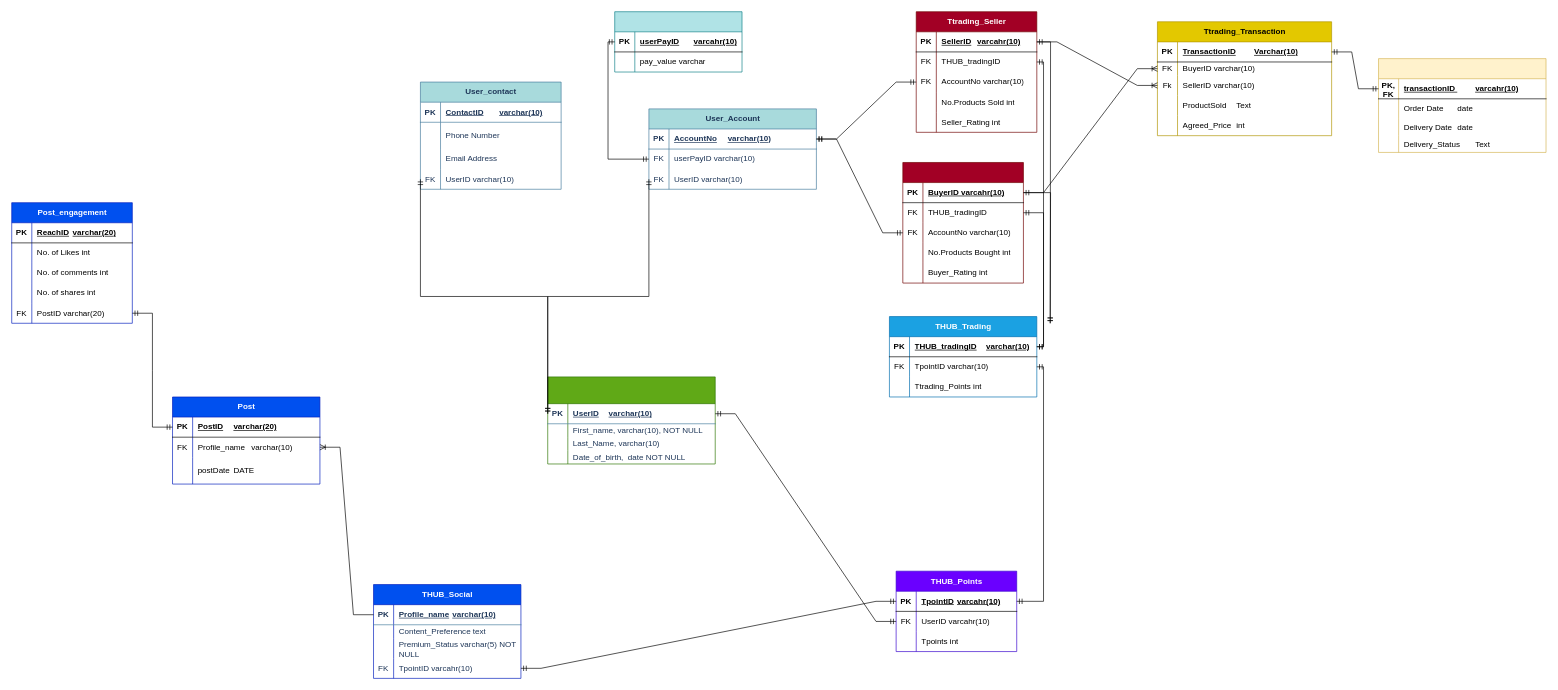
Some shapes in this 1558 by 690 pixel diagram are drawn without their labels. Here are the shapes that lost their labels. From the top down, the box of each, then its label:
(614, 11, 742, 72): Payment_Type
(1378, 58, 1546, 152): Transaction_delivery
(902, 162, 1023, 283): Ttrading_Buyer
(547, 376, 715, 464): THUB_UserProfile
